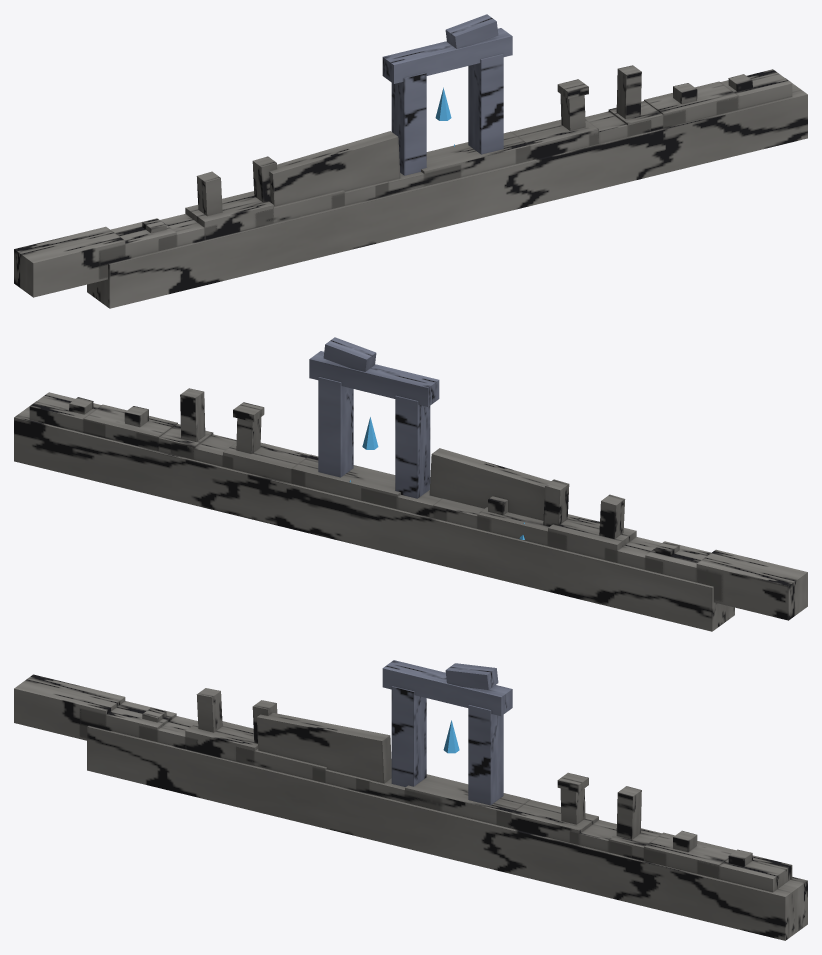
The model's file is BG_Ridge_Ruins.obj.
3 renders of one model, top to bottom at view 1: azimuth 30°, elevation 25°; view 2: azimuth 150°, elevation 25°; view 3: azimuth 330°, elevation 25°, orthographic.
Parts seen in each view (by area): view 1: BG_Ridge_Ruins; view 2: BG_Ridge_Ruins; view 3: BG_Ridge_Ruins.
Part boxes in pixels (left/top/right/bottom): BG_Ridge_Ruins: left=14, top=14, right=807, bottom=308; BG_Ridge_Ruins: left=14, top=337, right=807, bottom=631; BG_Ridge_Ruins: left=14, top=660, right=807, bottom=940.
Size of the model in its own units: 1 by 0.2308 by 0.0506.
1 material, 1 textured.
